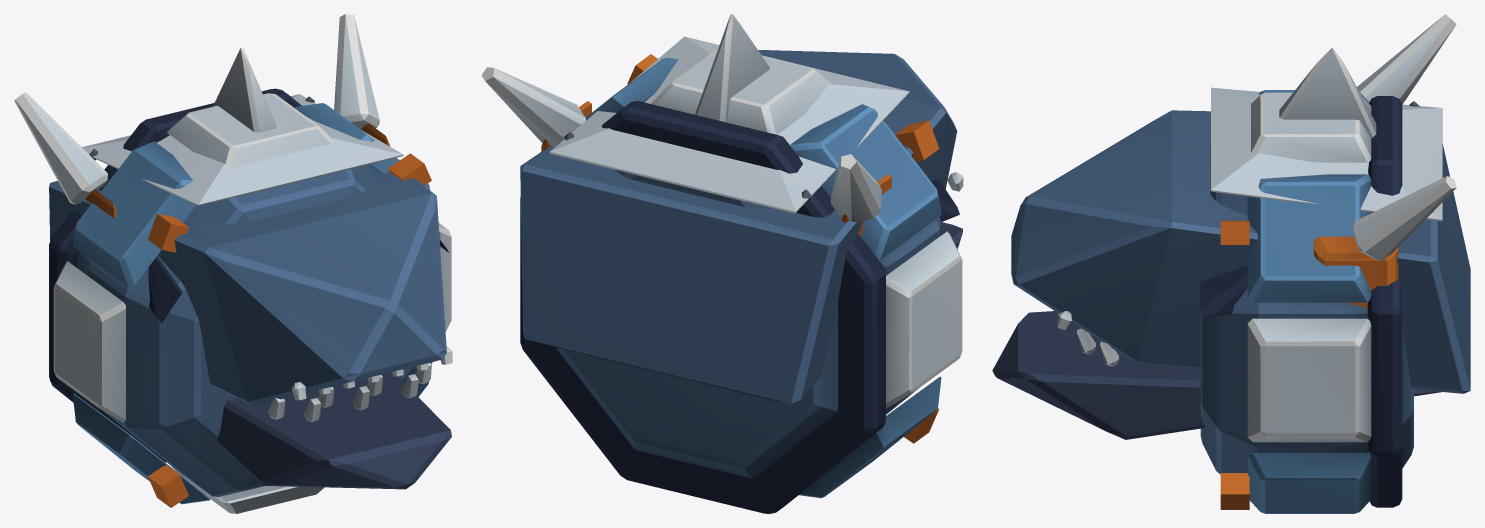
Rendered from leviathan.glb.
The picture shows the model from 3 angles, left to right: view 1: azimuth 30°, elevation 25°; view 2: azimuth 150°, elevation 25°; view 3: azimuth 270°, elevation 25°; orthographic projection. The views are drawn at different scales.
Parts seen in each view (by area): view 1: leviathan_head_body, leviathan_seg_body, leviathan_seg_glow; view 2: leviathan_head_body, leviathan_seg_body, leviathan_seg_glow; view 3: leviathan_head_body, leviathan_seg_body, leviathan_seg_glow.
Part boxes in pixels (<box>): leviathan_head_body: <box>14,14,452,489</box>; leviathan_seg_body: <box>49,47,451,513</box>; leviathan_seg_glow: <box>148,153,431,507</box>; leviathan_head_body: <box>481,36,963,403</box>; leviathan_seg_body: <box>520,14,962,513</box>; leviathan_seg_glow: <box>627,54,939,443</box>; leviathan_head_body: <box>992,14,1470,439</box>; leviathan_seg_body: <box>1200,47,1413,513</box>; leviathan_seg_glow: <box>1220,220,1249,509</box>.
Bounding box in the file's own units: 7.2 × 8.46 × 8.3.
